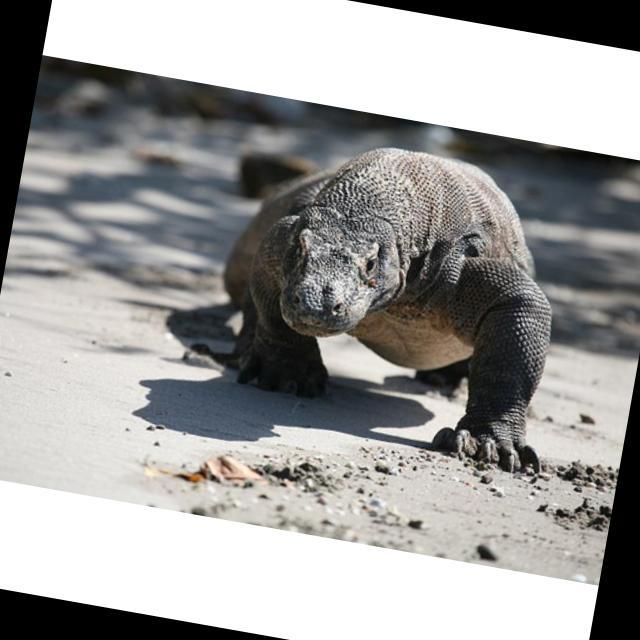KomodoDragon: (199, 120, 593, 484)
